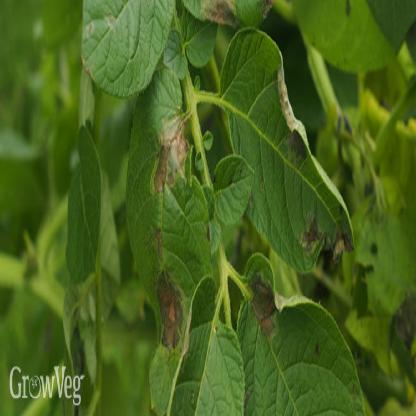potato leaf early blight: (215, 29, 361, 284), (125, 76, 213, 412), (233, 256, 367, 415)
